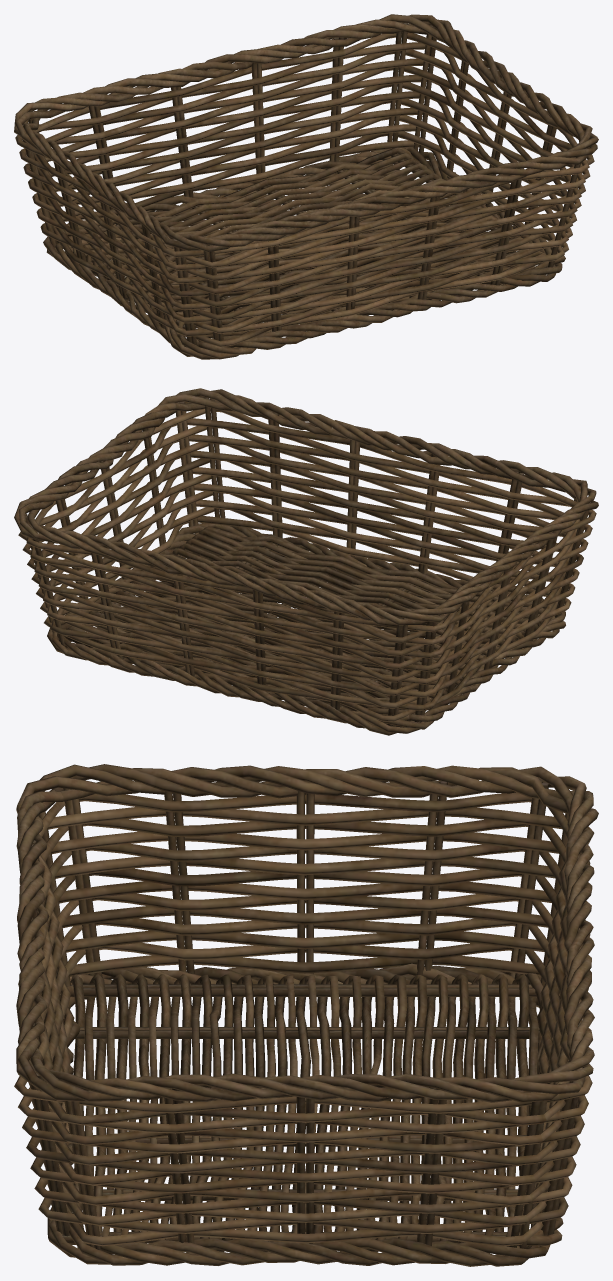
File: wicker-basket.glb
3 renders of one model, top to bottom at view 1: azimuth 30°, elevation 25°; view 2: azimuth 150°, elevation 25°; view 3: azimuth 270°, elevation 25°, orthographic. The views are drawn at different scales.
Visible parts, largest first — view 1: wicker_basket_01; view 2: wicker_basket_01; view 3: wicker_basket_01.
Boxes of the visible parts, bbox=[...] form: wicker_basket_01: bbox=[14, 14, 598, 359]; wicker_basket_01: bbox=[14, 388, 598, 735]; wicker_basket_01: bbox=[14, 764, 598, 1266].
Bounding box in the file's own units: 0.3832 × 0.1174 × 0.295.
Materials: 1 (1 with a texture image).
